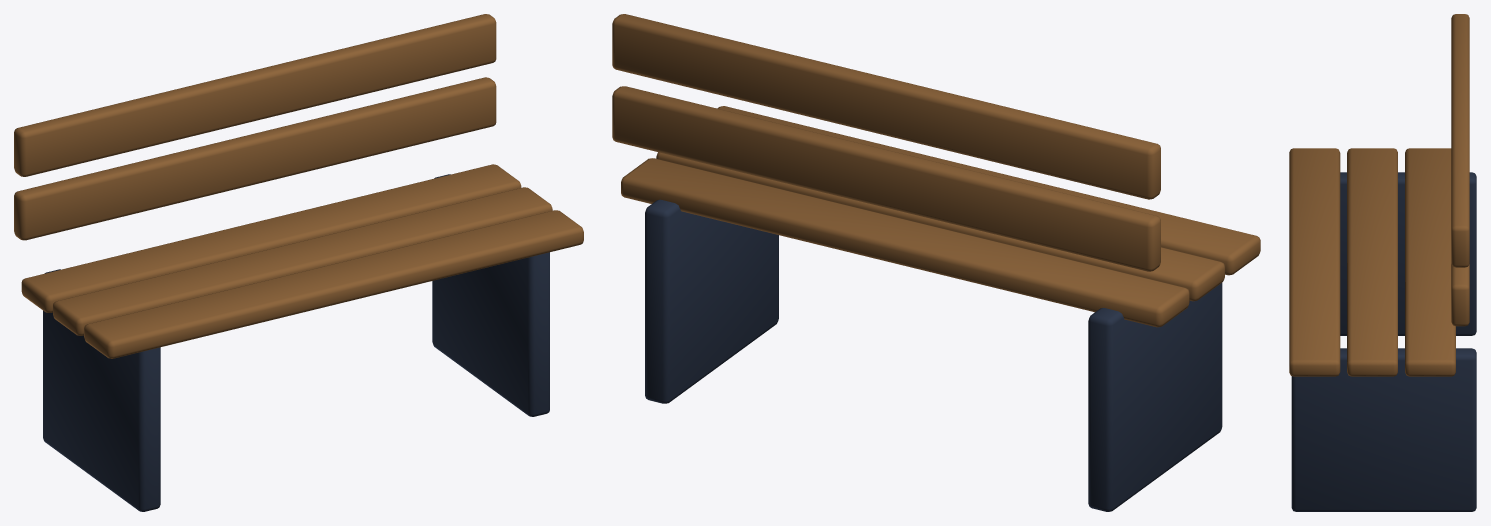
The model's file is prop_bench.glb.
3 views of the same model, side by side, from view 1: azimuth 30°, elevation 25°; view 2: azimuth 150°, elevation 25°; view 3: azimuth 270°, elevation 25° (orthographic). The views are drawn at different scales.
Parts seen in each view (by area): view 1: prop_bench; view 2: prop_bench; view 3: prop_bench.
Boxes of the visible parts, x1,y1,x2,y2 form: prop_bench: [14, 14, 583, 511]; prop_bench: [612, 14, 1260, 511]; prop_bench: [1289, 14, 1476, 511].
Bounding box in the file's own units: 2.2 × 1.44 × 0.81.
